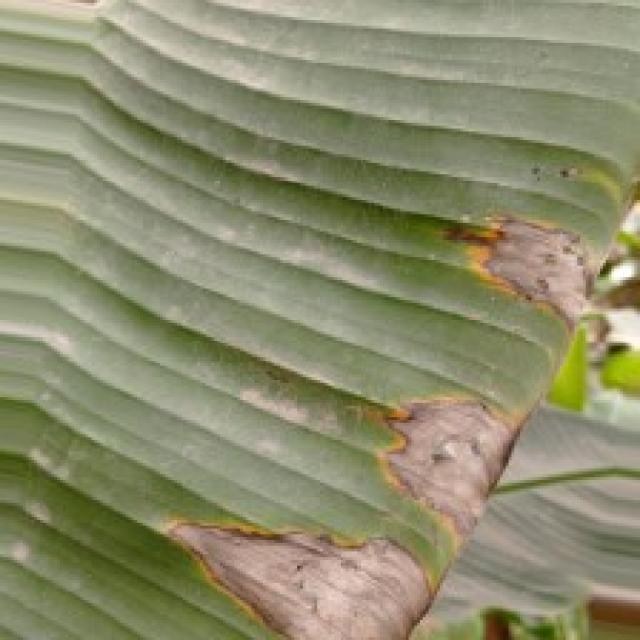Bacterial_spot: (152, 493, 432, 638), (428, 199, 610, 346), (374, 366, 513, 550), (524, 147, 602, 197)
